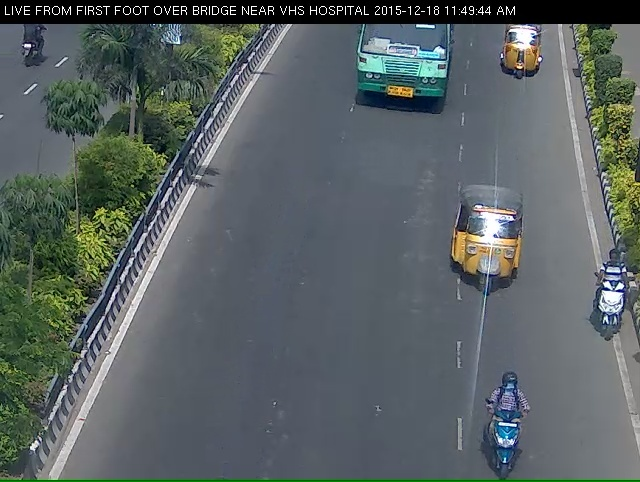Auto: (450, 195, 522, 319), (497, 23, 550, 86)
Bus: (343, 23, 458, 118)
Person: (594, 250, 631, 347), (485, 409, 531, 479)
